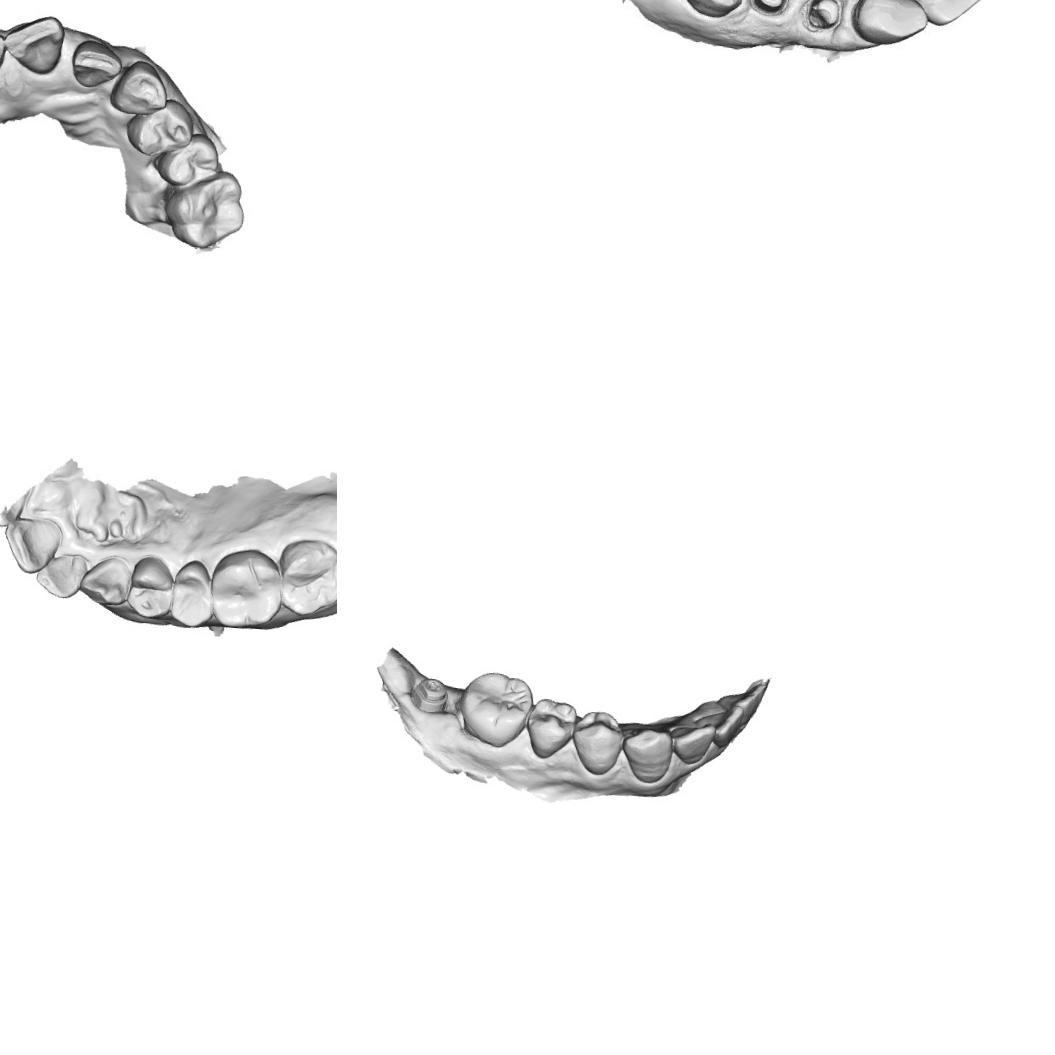abutment: (803, 0, 843, 34), (751, 0, 793, 15)
canine: (106, 56, 171, 118), (849, 0, 929, 49), (74, 550, 136, 612), (618, 724, 674, 785)
implant: (408, 674, 450, 716)
incisor: (0, 512, 68, 576), (0, 12, 66, 76), (31, 546, 90, 601), (66, 36, 123, 92), (690, 700, 744, 752), (712, 679, 766, 731), (666, 718, 716, 766), (901, 0, 983, 28)
molar: (160, 164, 250, 254), (204, 544, 286, 632), (454, 668, 536, 751), (271, 533, 337, 620)
premolar: (122, 94, 196, 162), (150, 126, 222, 194), (568, 707, 626, 778), (122, 550, 178, 622), (166, 554, 216, 630), (523, 694, 578, 762)
